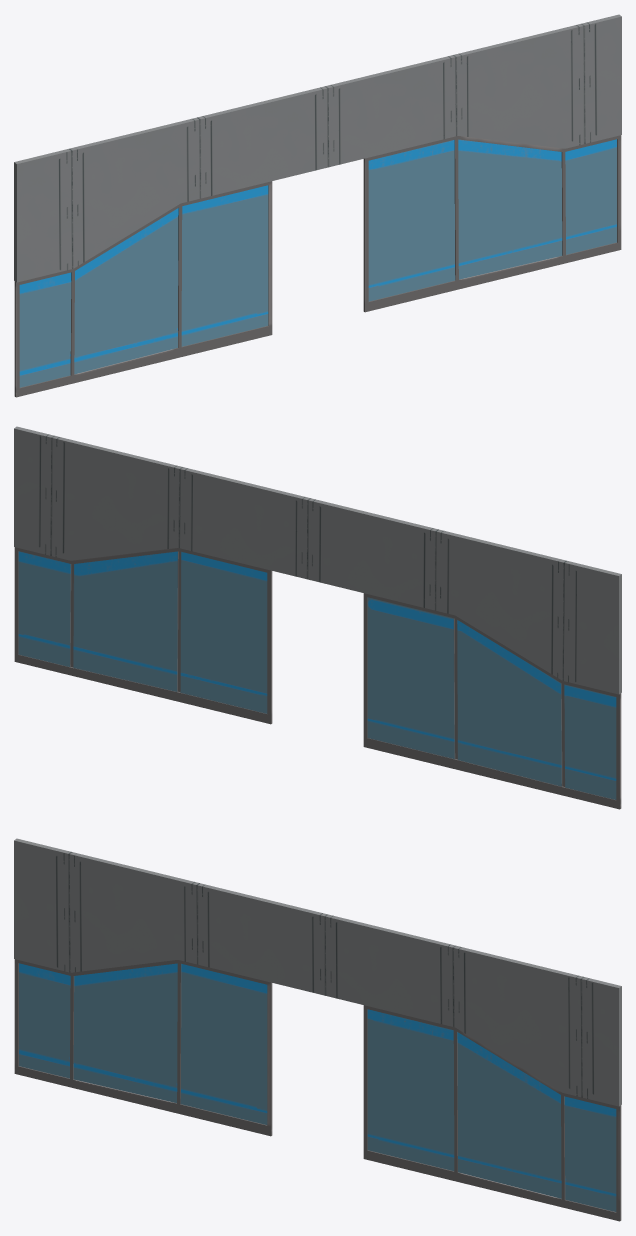
File: glass wall2.fbx
3 renders of one model, top to bottom at view 1: azimuth 30°, elevation 25°; view 2: azimuth 150°, elevation 25°; view 3: azimuth 330°, elevation 25°, orthographic.
Visible parts, largest first — view 1: glass wall2; view 2: glass wall2; view 3: glass wall2.
Part boxes in pixels (left/top/right/bottom): glass wall2: left=14, top=14, right=621, bottom=397; glass wall2: left=14, top=426, right=621, bottom=809; glass wall2: left=14, top=838, right=621, bottom=1221.
Bounding box in the file's own units: 4856 × 1793 × 39.38.
